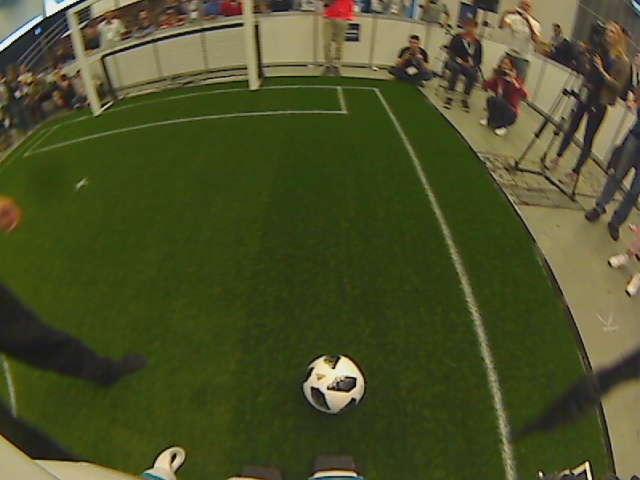ball: (299, 351, 368, 415)
